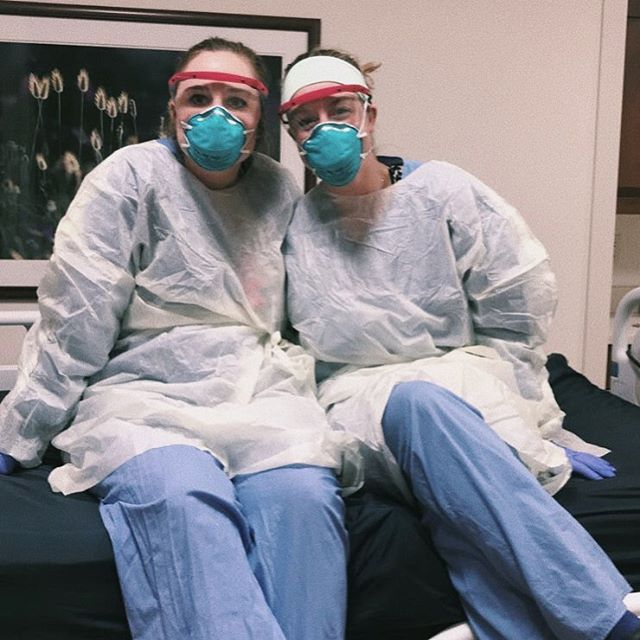n95: (288, 123, 372, 188), (178, 106, 253, 172)
